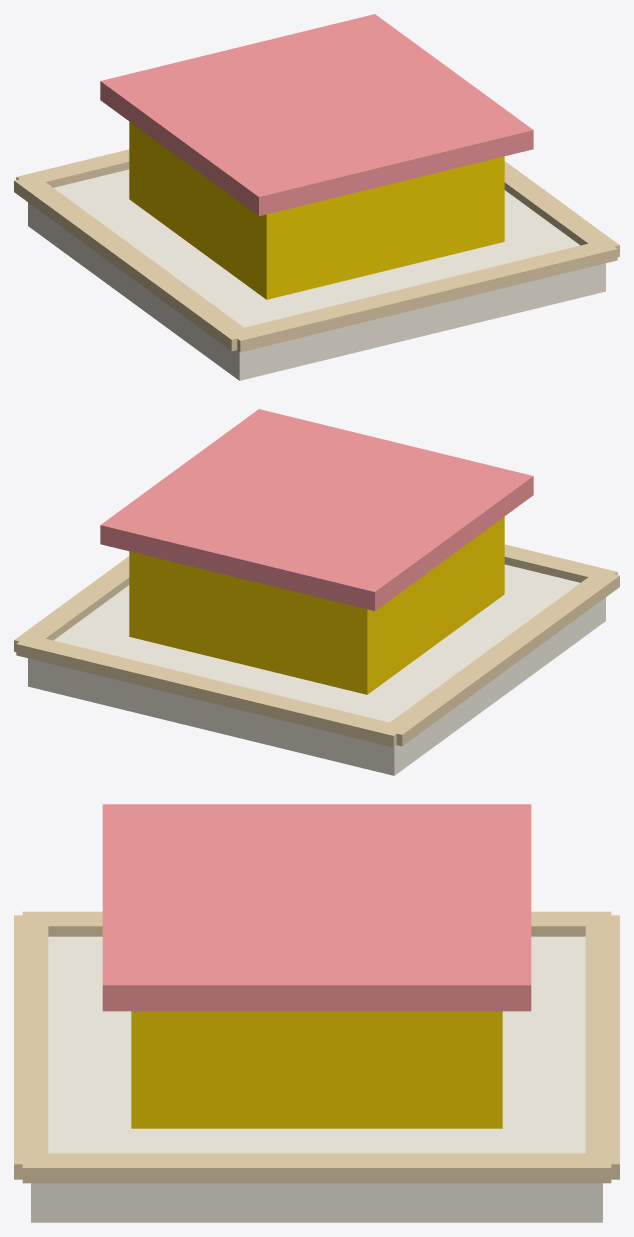
The model's file is city.start_station.glb.
3 renders of one model, top to bottom at view 1: azimuth 30°, elevation 25°; view 2: azimuth 150°, elevation 25°; view 3: azimuth 270°, elevation 25°, orthographic. The views are drawn at different scales.
Visible parts, largest first — view 1: city.start_station; view 2: city.start_station; view 3: city.start_station.
Part boxes in pixels (x1,y1,x2,y2): city.start_station: (14,14,619,380); city.start_station: (14,409,619,775); city.start_station: (14,804,619,1222).
Bounding box in the file's own units: 2.12 × 0.8 × 2.12.
